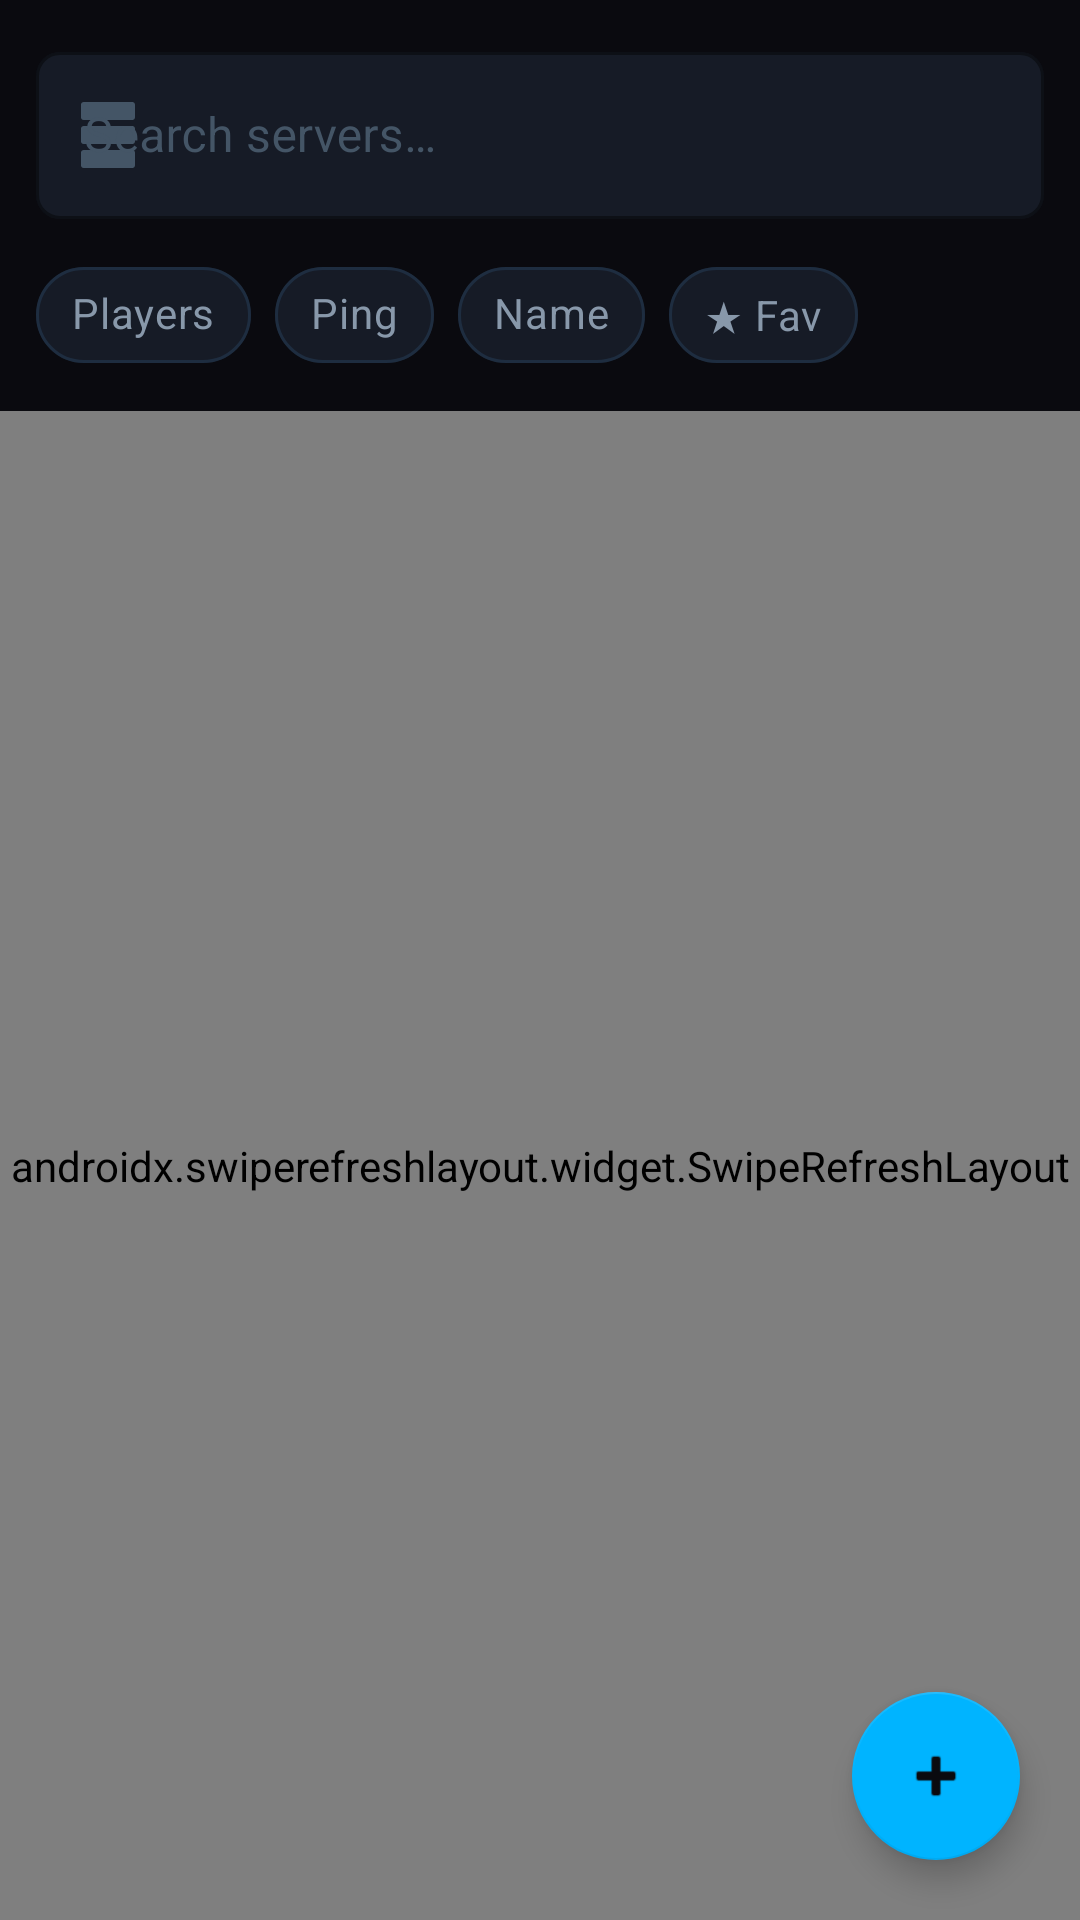

Where to tap for icons on this 1080×1920 app screen, as (x,y):
Add server: (936,1776)
